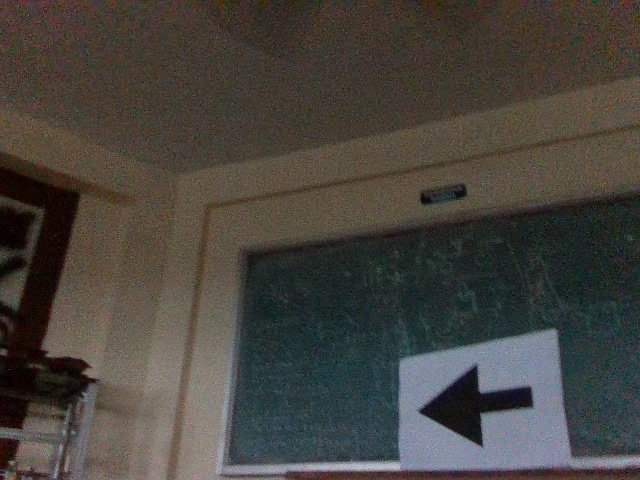Left: (408, 360, 539, 445)
